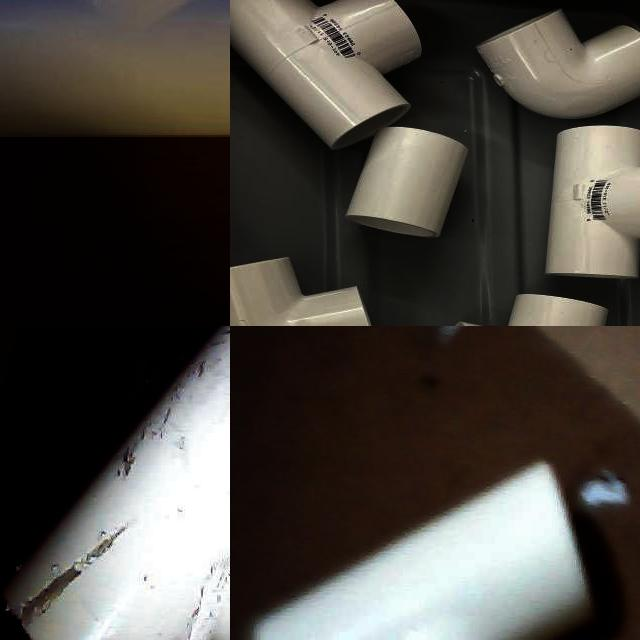Defective: (12, 536, 141, 636), (95, 388, 230, 482)
L Joint: (474, 9, 640, 120), (230, 257, 373, 326)
T Joint: (1, 326, 230, 640), (244, 461, 600, 640), (230, 0, 418, 151), (544, 127, 640, 279)
